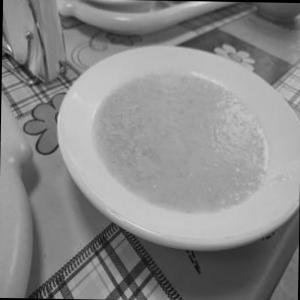porridge: (70, 49, 280, 241)
